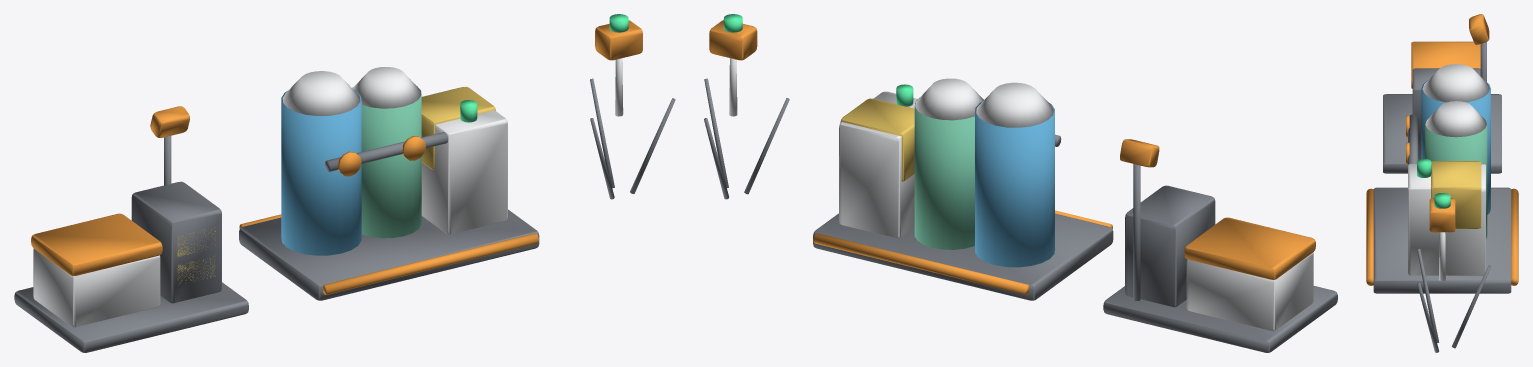
File: external-equipment.glb
The picture shows the model from 3 angles, left to right: view 1: azimuth 30°, elevation 25°; view 2: azimuth 150°, elevation 25°; view 3: azimuth 270°, elevation 25°; orthographic projection. The views are drawn at different scales.
Visible parts, largest first — view 1: Water_Distiller_Tank, Recycler_Skid_Base, Filtration_Control_Unit, Backup_Battery_Rack, Oxygen_Buffer_Tank, Supply_Crate_Body, EVA_Platform_Base, Supply_Crate_Lid, Water_Tank_Cap, Skid_Bumper_Front, Oxygen_Tank_Cap, Thermal_Blanket_Cover (+5 smaller); view 2: Water_Distiller_Tank, Recycler_Skid_Base, Oxygen_Buffer_Tank, Filtration_Control_Unit, Backup_Battery_Rack, Supply_Crate_Body, EVA_Platform_Base, Supply_Crate_Lid, Water_Tank_Cap, Thermal_Blanket_Cover, Skid_Bumper_Back, Oxygen_Tank_Cap (+5 smaller); view 3: Recycler_Skid_Base, Filtration_Control_Unit, EVA_Platform_Base, Thermal_Blanket_Cover, Water_Tank_Cap, Oxygen_Buffer_Tank, Supply_Crate_Lid, Oxygen_Tank_Cap, Water_Distiller_Tank, Backup_Battery_Rack, Radiation_Dust_Detector_Box, Skid_Bumper_Back (+10 smaller).
Part boxes in pixels (x1,y1,x2,y2): Water_Distiller_Tank: (281,90,361,255); Recycler_Skid_Base: (239,209,539,300); Filtration_Control_Unit: (421,87,507,234); Backup_Battery_Rack: (131,181,221,303); Oxygen_Buffer_Tank: (352,86,421,238); Supply_Crate_Body: (33,248,160,327); EVA_Platform_Base: (14,282,248,352); Supply_Crate_Lid: (31,213,162,275); Water_Tank_Cap: (282,71,360,115); Skid_Bumper_Front: (323,233,538,294); Oxygen_Tank_Cap: (352,67,421,108); Thermal_Blanket_Cover: (421,86,495,169); Water_Distiller_Tank: (975,102,1054,267); Recycler_Skid_Base: (813,213,1113,300); Oxygen_Buffer_Tank: (914,97,983,249); Filtration_Control_Unit: (839,91,917,238); Backup_Battery_Rack: (1125,185,1215,307); Supply_Crate_Body: (1186,252,1313,331); EVA_Platform_Base: (1103,286,1337,352); Supply_Crate_Lid: (1184,217,1315,279); Water_Tank_Cap: (976,82,1053,127); Thermal_Blanket_Cover: (840,98,914,181); Skid_Bumper_Back: (813,233,1028,294); Oxygen_Tank_Cap: (915,78,983,120); Recycler_Skid_Base: (1373,187,1511,293); Filtration_Control_Unit: (1408,163,1485,275); EVA_Platform_Base: (1383,94,1501,173); Thermal_Blanket_Cover: (1431,161,1481,228); Water_Tank_Cap: (1422,64,1489,102); Oxygen_Buffer_Tank: (1425,119,1487,238); Supply_Crate_Lid: (1411,41,1480,88); Oxygen_Tank_Cap: (1425,101,1486,137); Water_Distiller_Tank: (1421,80,1490,214); Backup_Battery_Rack: (1412,68,1480,159); Radiation_Dust_Detector_Box: (1429,198,1455,232); Skid_Bumper_Back: (1511,188,1518,285).
Bounding box in the file's own units: 6.66 × 1.86 × 1.66.
